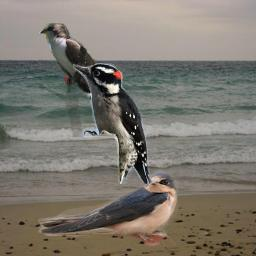Cuckoo: (39, 23, 125, 137)
Swallow: (38, 169, 178, 246)
Woodpecker: (73, 63, 151, 184)
